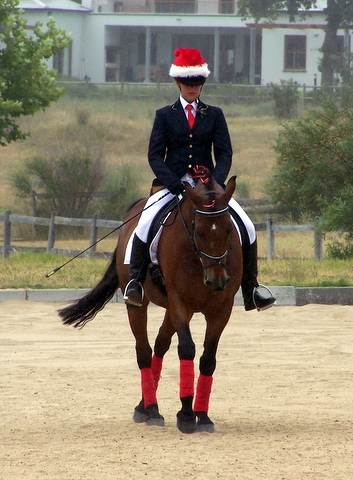person: (123, 46, 280, 315)
